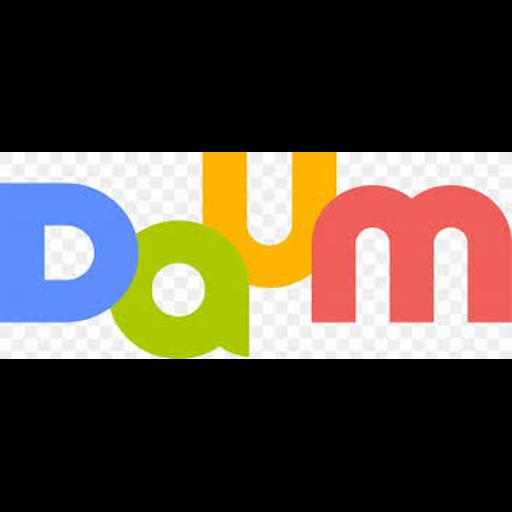Daum: (0, 152, 512, 359)
